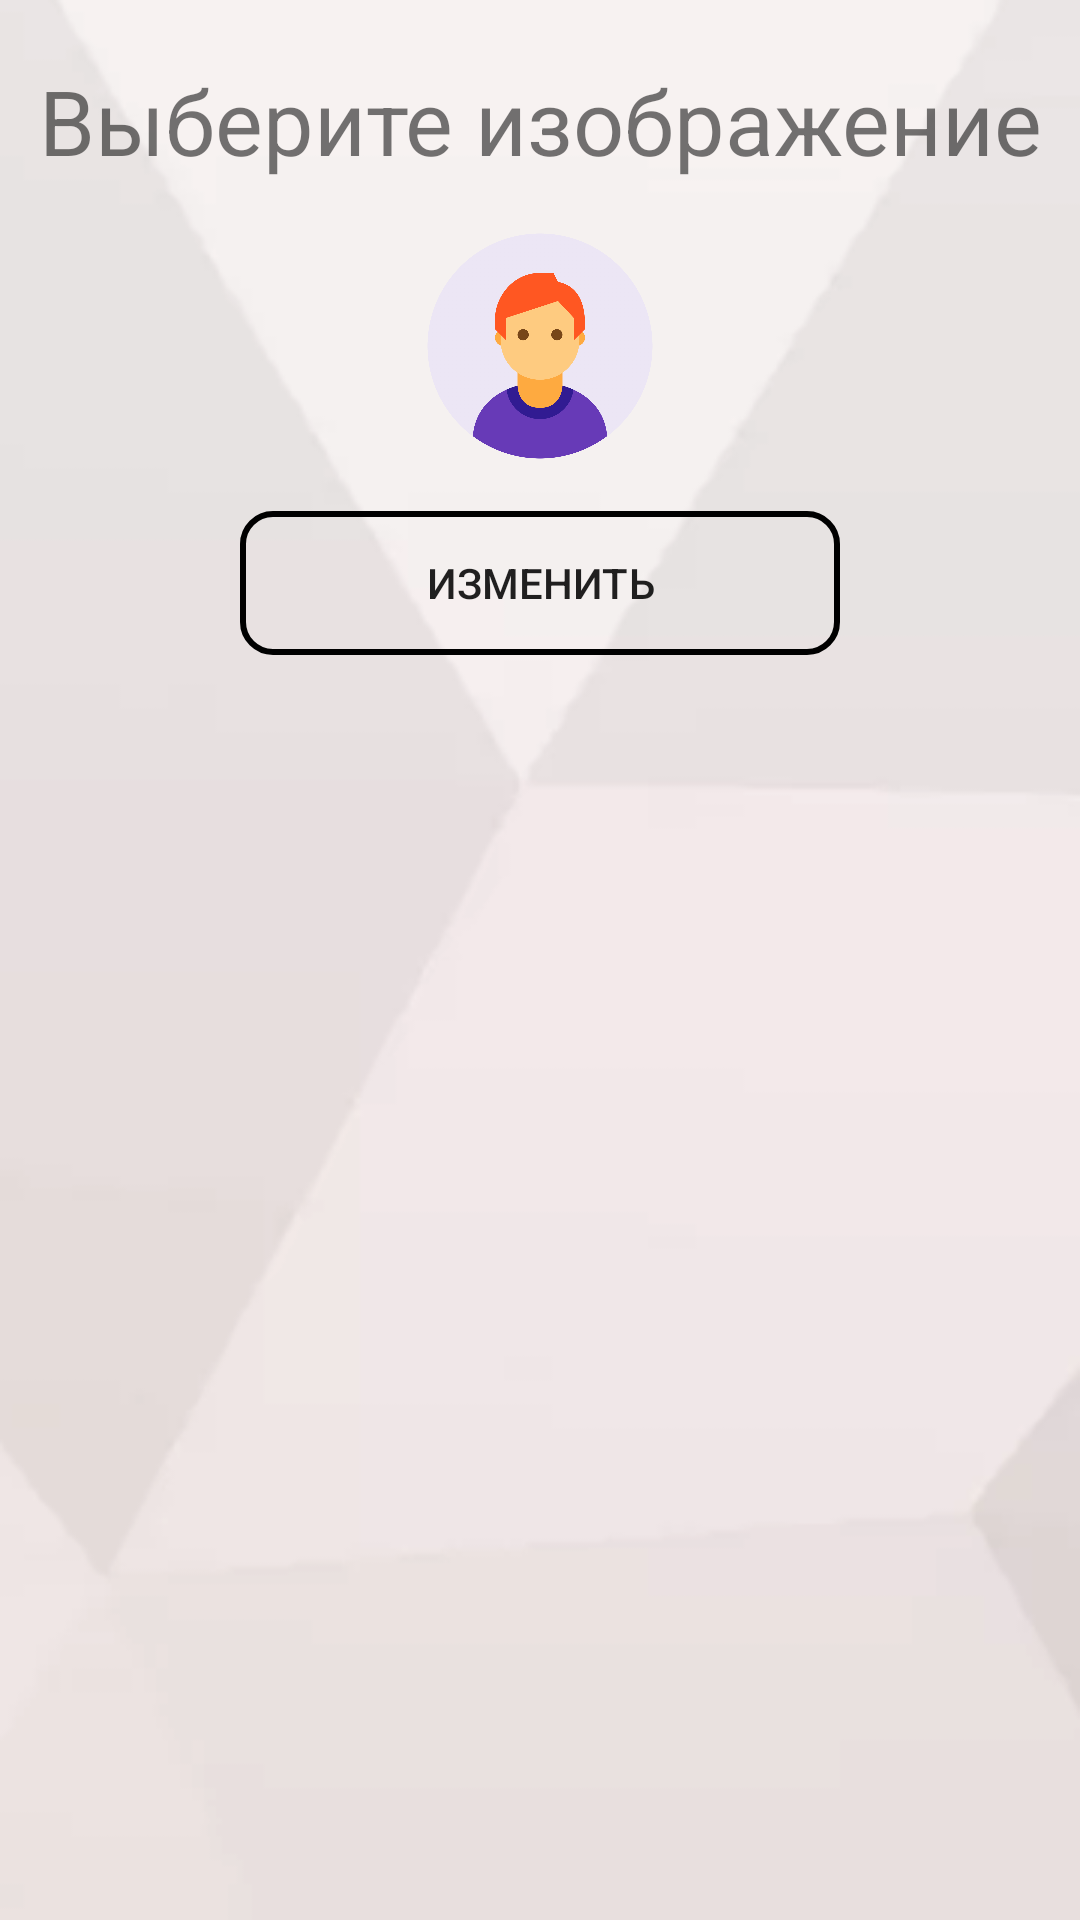

Icon click points for this 1080w x 1920h phone screenshot, format (x=x, y=y):
user: (x=540, y=366)
